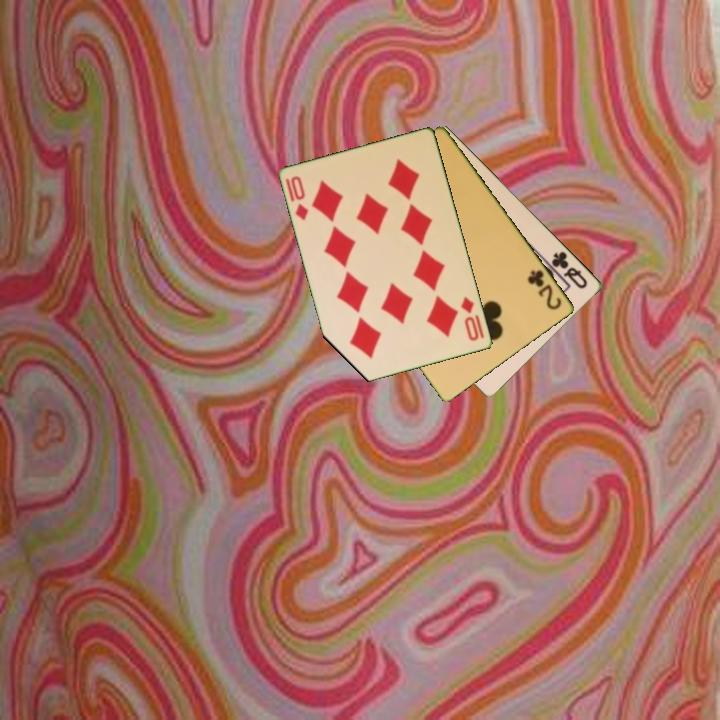10d: (458, 293, 487, 344), (288, 172, 312, 224)
2c: (524, 266, 565, 313)
Qc: (543, 247, 591, 292)
